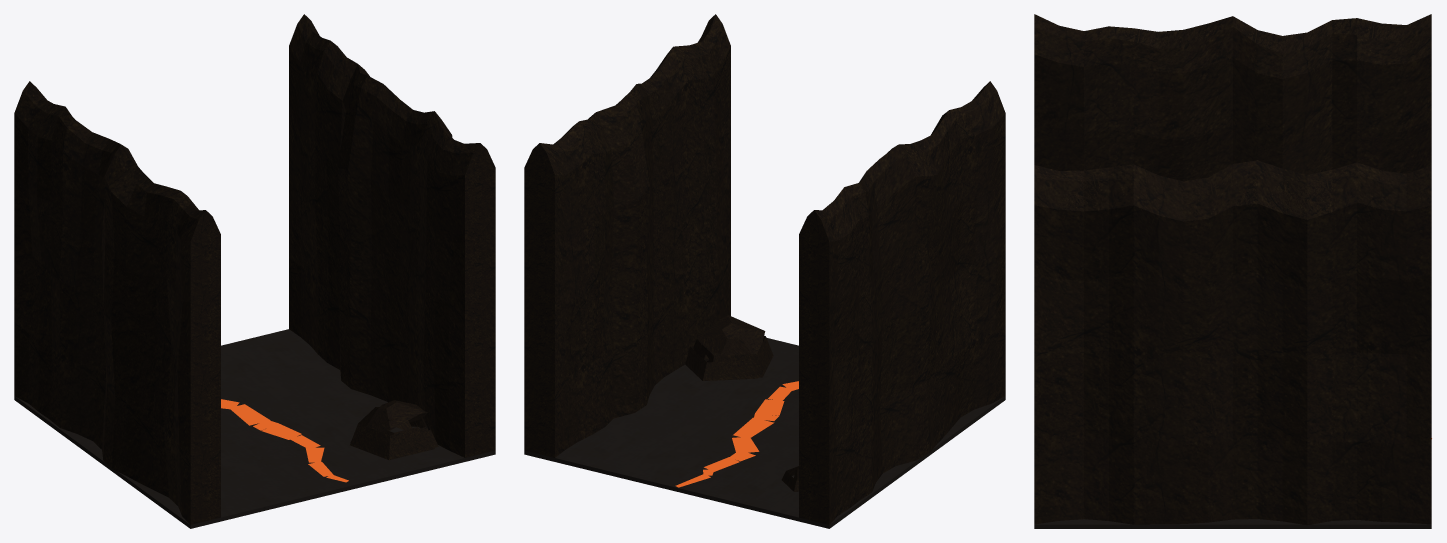
Rendered from dungeon_corridor_4_lava_real.glb.
The picture shows the model from 3 angles, left to right: view 1: azimuth 30°, elevation 25°; view 2: azimuth 150°, elevation 25°; view 3: azimuth 270°, elevation 25°; orthographic projection. The views are drawn at different scales.
Parts seen in each view (by area): view 1: dungeon_corridor_4_lava; view 2: dungeon_corridor_4_lava; view 3: dungeon_corridor_4_lava.
Boxes of the visible parts, x1,y1,x2,y2 form: dungeon_corridor_4_lava: (14,14,495,528); dungeon_corridor_4_lava: (524,14,1005,528); dungeon_corridor_4_lava: (1034,14,1431,528).
Size of the model in its own units: 4.09 by 3.96 by 4.01.
Materials: 3 (3 with a texture image).
